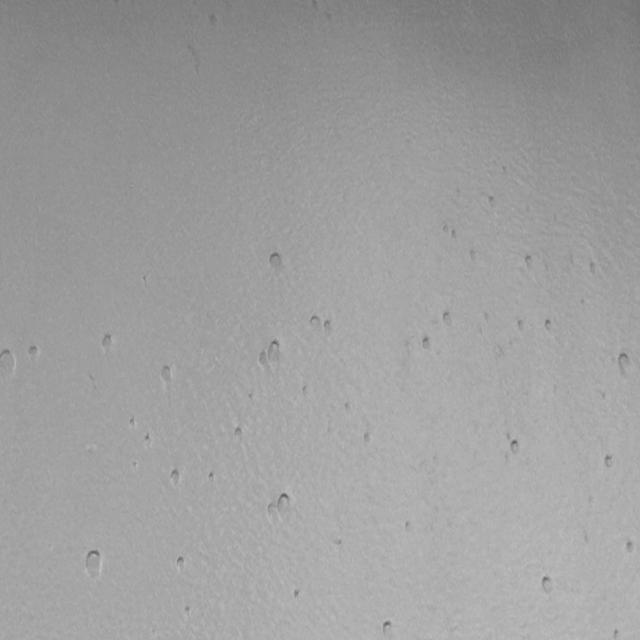pin holes: (614, 352, 638, 384), (82, 548, 105, 581), (270, 490, 296, 519), (263, 338, 285, 366), (0, 350, 18, 381), (505, 434, 526, 460), (266, 248, 288, 272), (538, 573, 559, 597), (521, 250, 540, 276), (399, 516, 420, 538), (100, 332, 119, 356), (157, 362, 176, 386), (378, 620, 398, 640), (623, 537, 639, 559), (602, 452, 619, 472), (360, 428, 375, 450), (206, 12, 223, 31), (466, 247, 482, 267), (419, 334, 434, 355), (26, 342, 41, 362), (586, 260, 601, 280), (440, 309, 456, 327), (306, 312, 321, 331), (169, 468, 183, 488), (543, 315, 557, 335), (324, 316, 338, 335), (174, 554, 187, 574), (521, 253, 536, 270), (341, 400, 355, 418), (485, 194, 499, 211), (138, 271, 152, 288), (232, 424, 245, 442), (515, 316, 528, 333), (332, 536, 347, 550), (292, 587, 305, 603), (142, 432, 154, 448), (448, 227, 460, 243), (300, 384, 312, 400), (610, 626, 625, 638), (440, 222, 452, 237), (127, 415, 138, 431), (206, 471, 217, 485), (184, 604, 194, 619), (130, 460, 140, 474)
